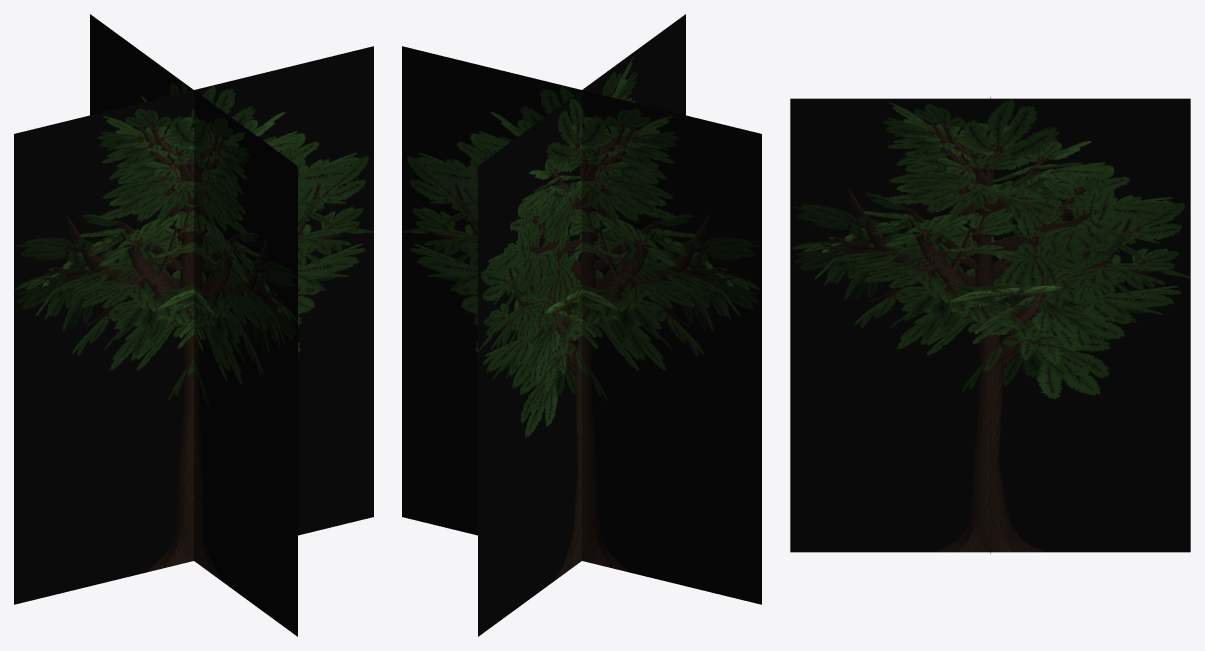
Rendered from LOD1_Tree.glb.
3 renders of one model, left to right at view 1: azimuth 30°, elevation 25°; view 2: azimuth 150°, elevation 25°; view 3: azimuth 270°, elevation 25°, orthographic. The views are drawn at different scales.
Parts seen in each view (by area): view 1: tree; view 2: tree; view 3: tree.
Part boxes in pixels (<box>): tree: <box>14,14,373,636</box>; tree: <box>402,14,761,636</box>; tree: <box>790,97,1190,553</box>.
Size of the model in its own units: 10.24 by 12.8 by 10.24.
Materials: 1 (1 with a texture image).
